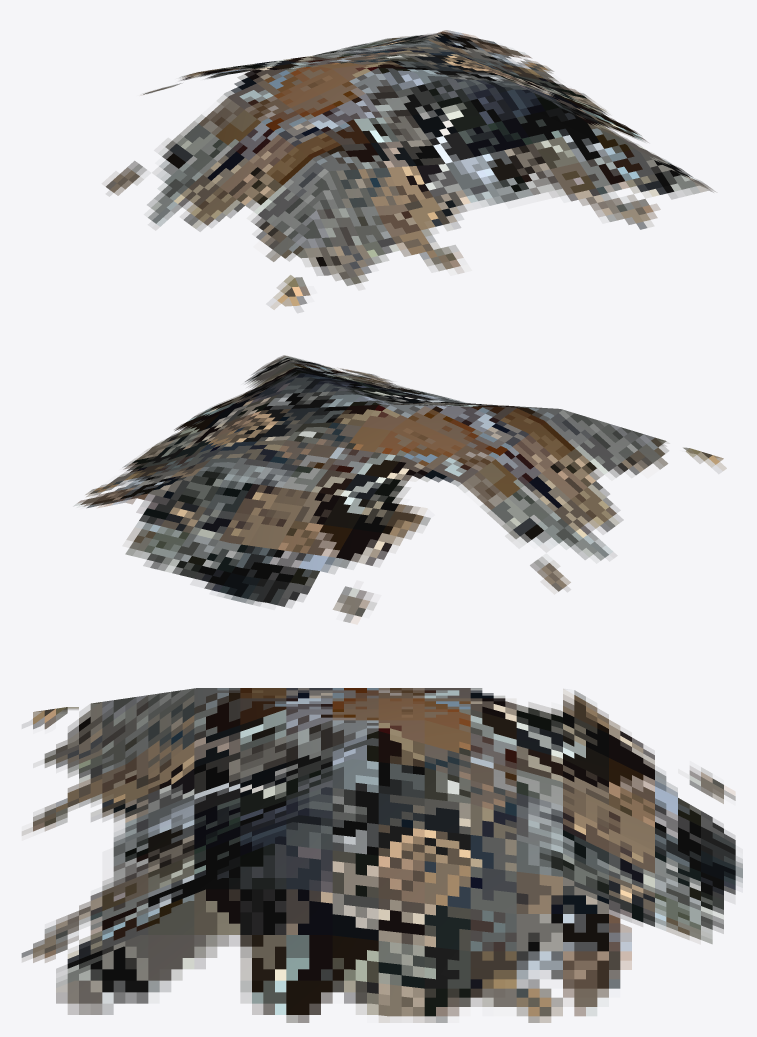
Rendered from Environment - Prop - Trash Pile 02 - PMTrshPl02.glb.
The picture shows the model from 3 angles, top to bottom: view 1: azimuth 30°, elevation 25°; view 2: azimuth 150°, elevation 25°; view 3: azimuth 270°, elevation 25°; orthographic projection. The views are drawn at different scales.
Visible parts, largest first — view 1: PMTRSHPL02; view 2: PMTRSHPL02; view 3: PMTRSHPL02.
Boxes of the visible parts, box(x1,y1,x2,y2) form: PMTRSHPL02: box(102, 30, 716, 309); PMTRSHPL02: box(73, 355, 726, 624); PMTRSHPL02: box(21, 688, 742, 1022).
Size of the model in its own units: 15 by 3.12 by 15.
Materials: 1 (1 with a texture image).
